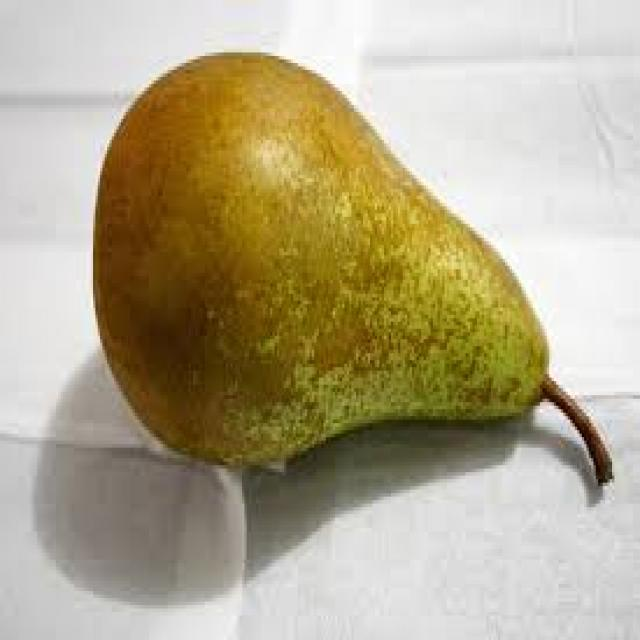organic waste: (91, 46, 549, 462)
